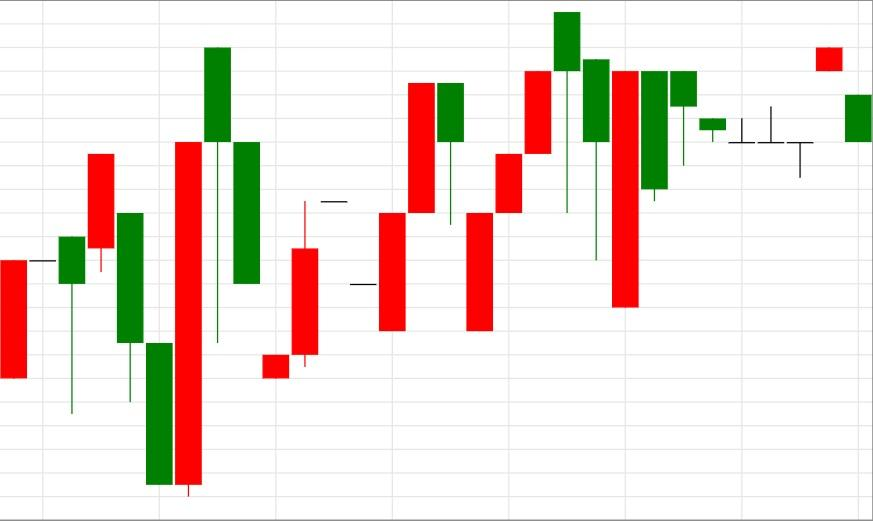bullish_engulfing_rise: (87, 140, 203, 498)
hanging_man_fall: (145, 47, 232, 498), (466, 12, 581, 332)
three_white_soldiers_rise: (407, 70, 552, 332)
